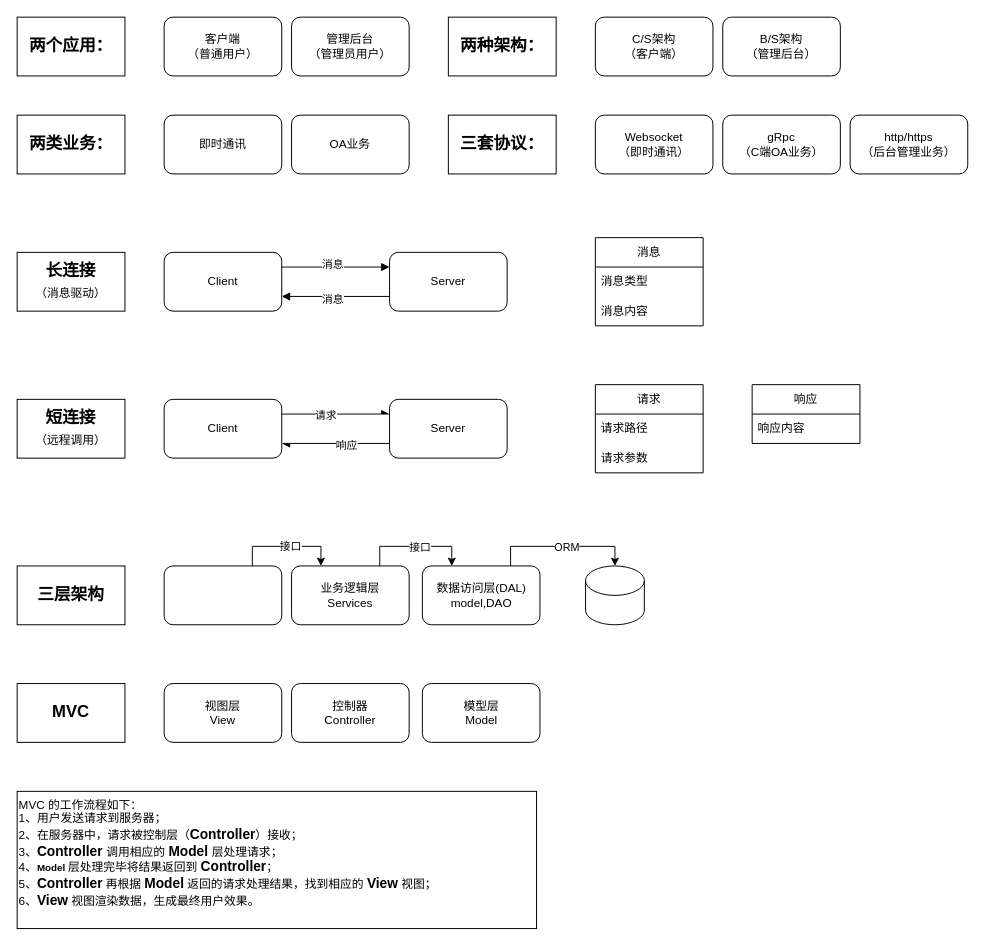
Image size: 985x946. Some labels were removed from this diagram. The shapes that lost their labels are listed below. From the top down, each one's centre as x and y in pixels, then its label:
At point (222, 595): "表示层 UI".
At point (614, 595): "RDB".
